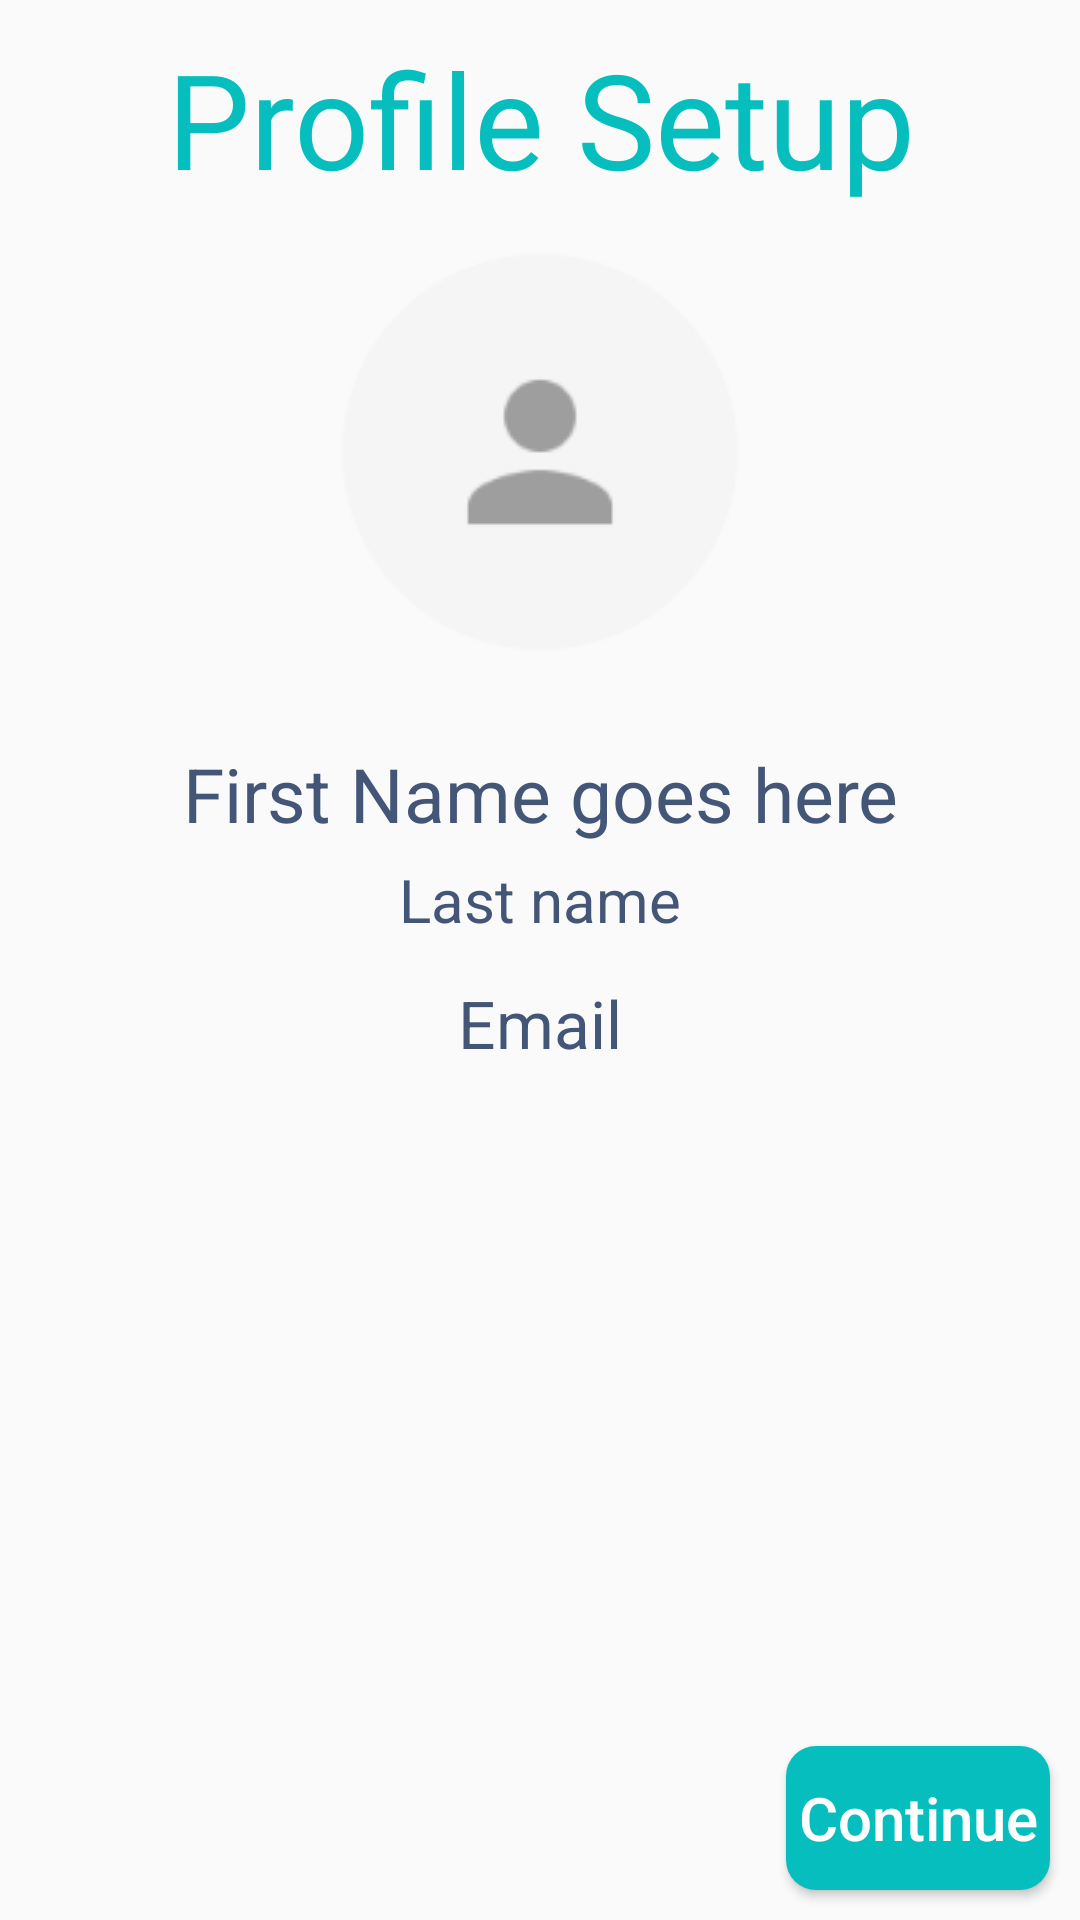

Screen size 1080px x 1920px. Icon name, then its center in pixels as (x=x, y=y):
person: (x=540, y=452)
